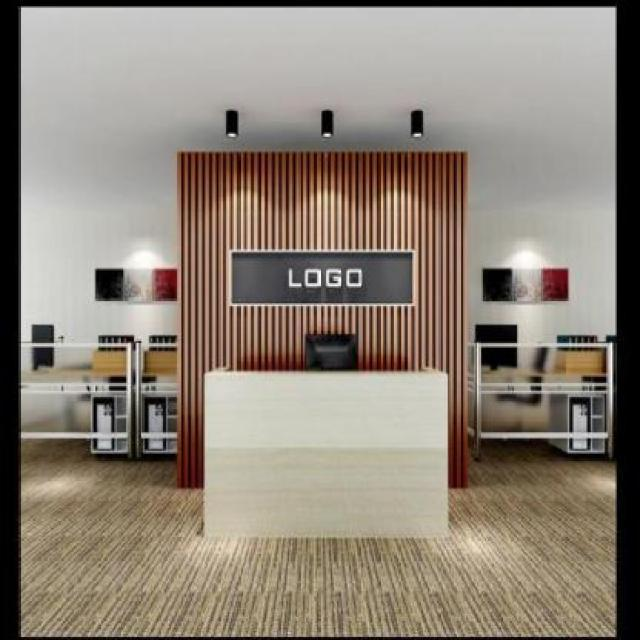frontdesk: (198, 352, 458, 552)
